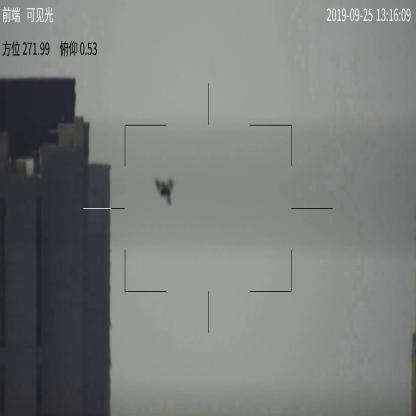uav: (152, 177, 173, 204)
